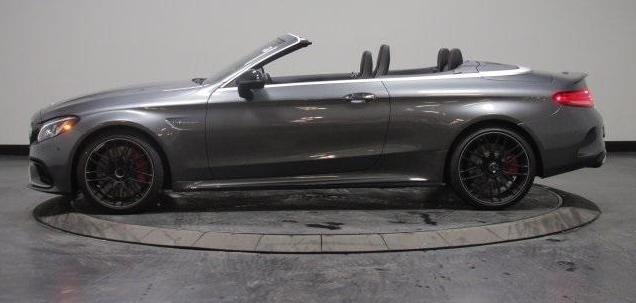C63AMG: (24, 32, 608, 219)
